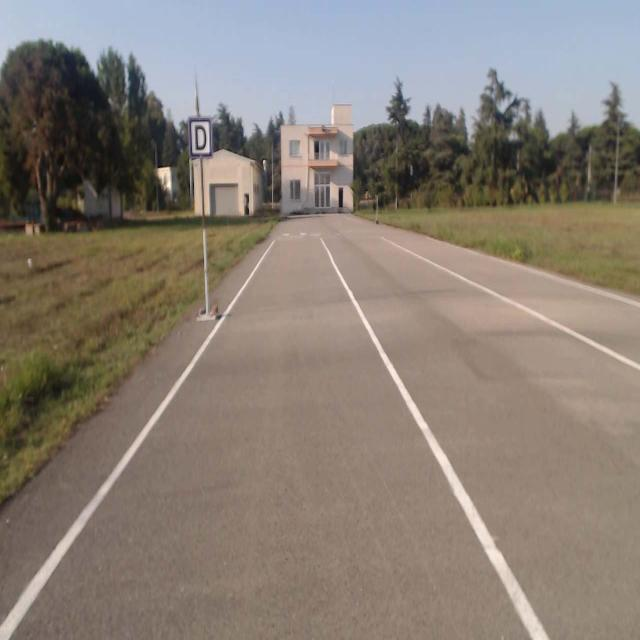durak: (188, 119, 212, 157)
